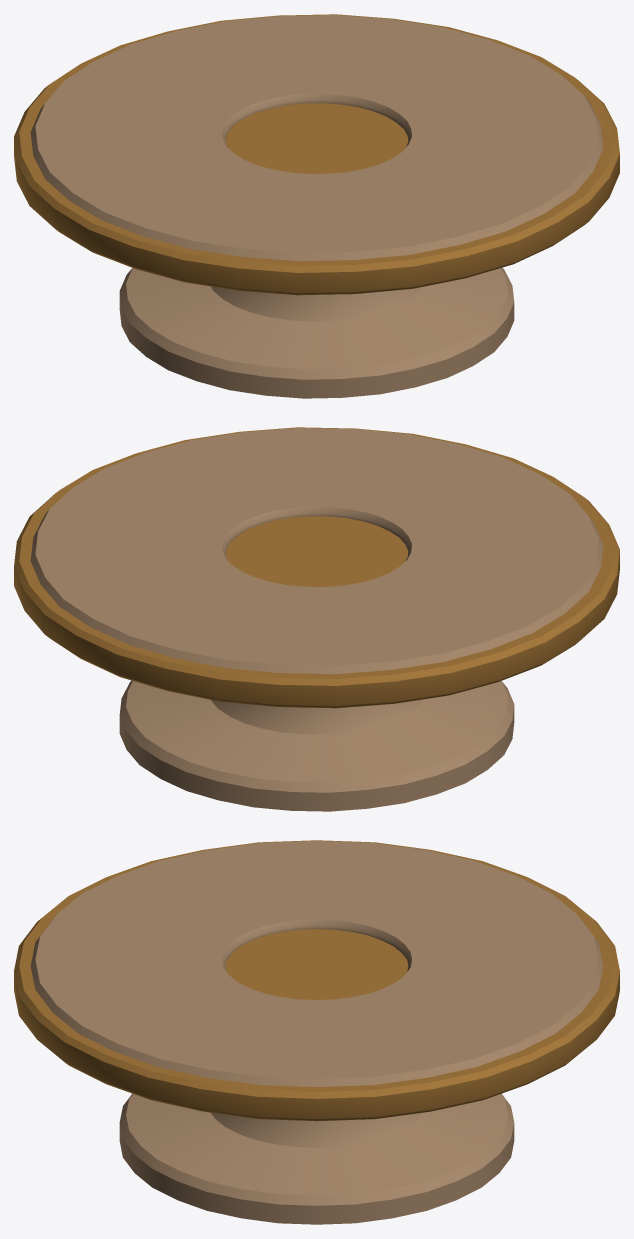
File: Table_01.fbx
3 renders of one model, top to bottom at view 1: azimuth 30°, elevation 25°; view 2: azimuth 150°, elevation 25°; view 3: azimuth 270°, elevation 25°, orthographic.
Visible parts, largest first — view 1: Table; view 2: Table; view 3: Table.
Boxes of the visible parts, x1=… form: Table: x1=14, y1=14, x2=619, y2=398; Table: x1=14, y1=427, x2=619, y2=811; Table: x1=14, y1=840, x2=619, y2=1224.
Size of the model in its own units: 127 by 41.87 by 127.
